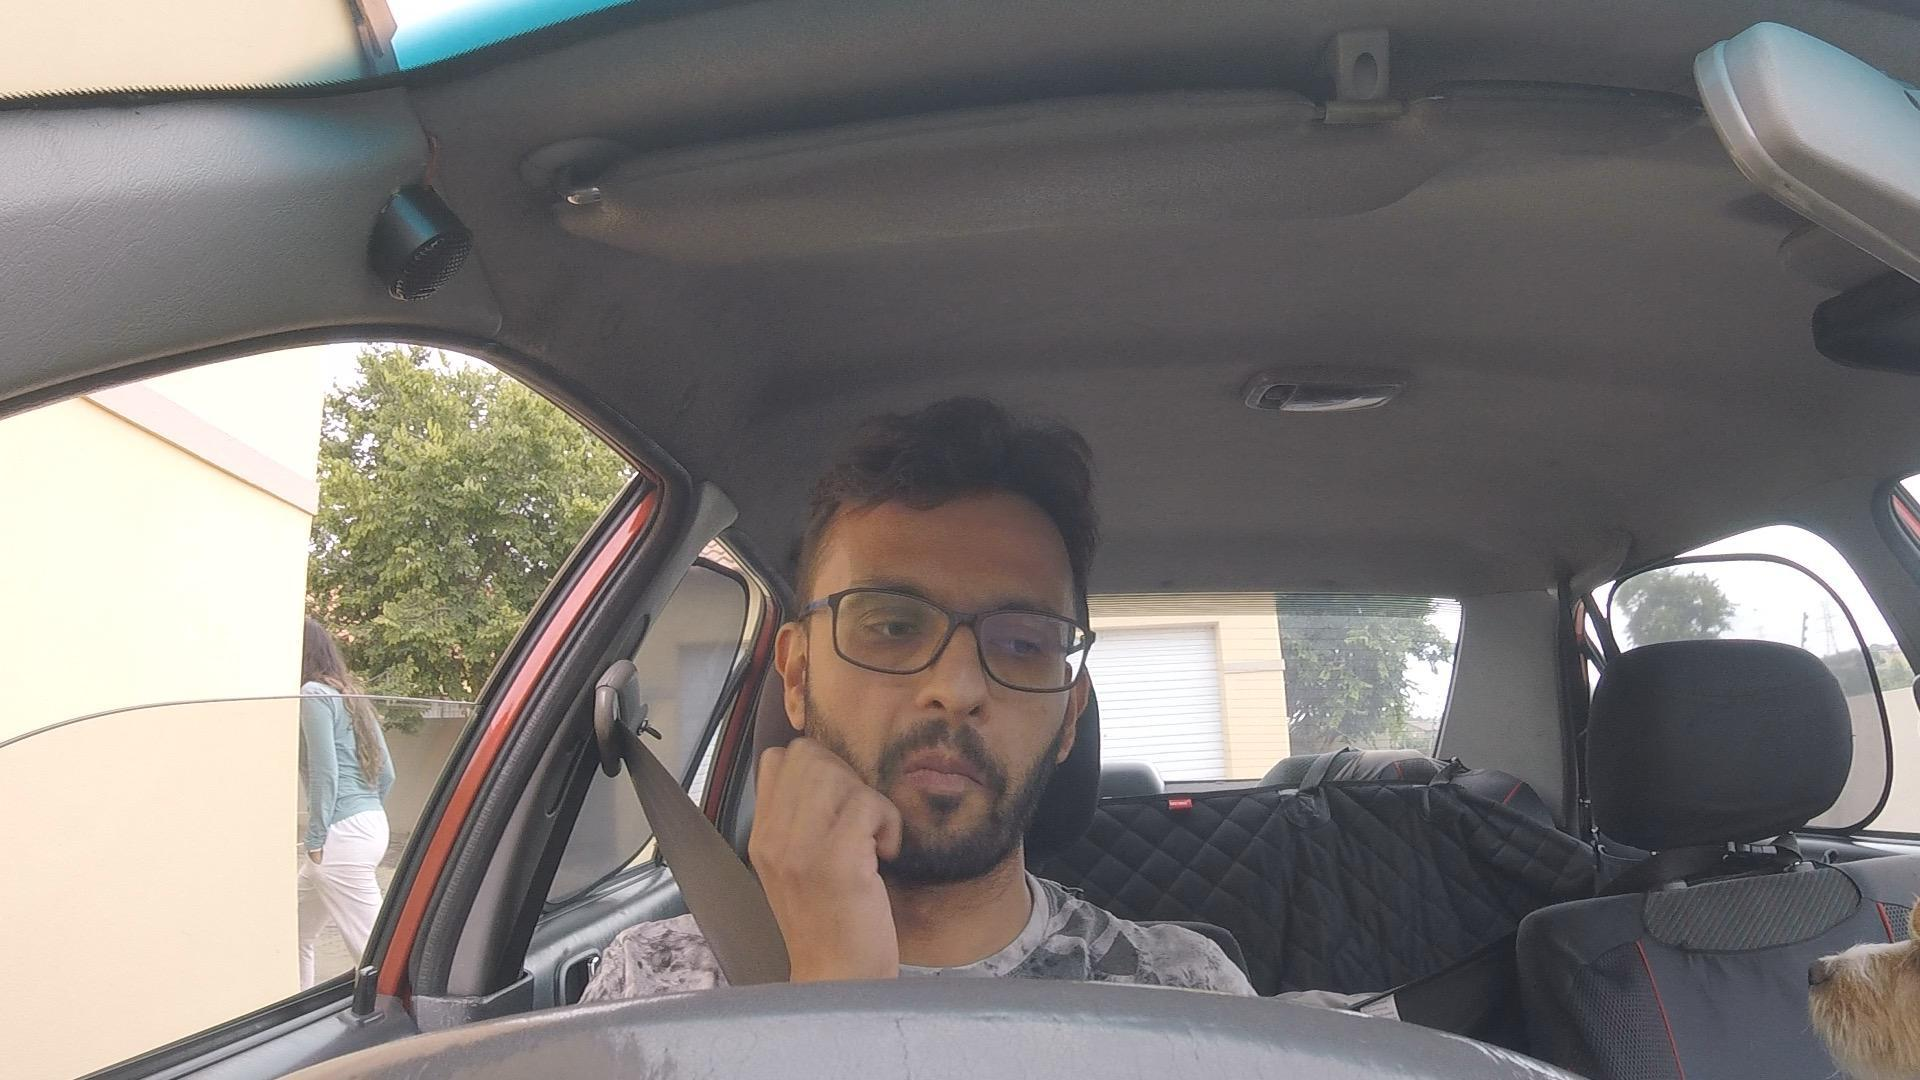Distracted: (624, 381, 1217, 990)
SafeDriving: (773, 397, 1095, 886)
